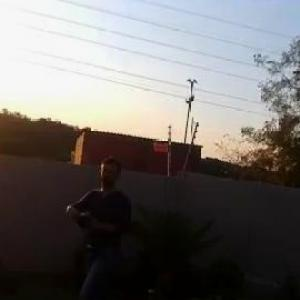follow: (60, 152, 138, 299)
